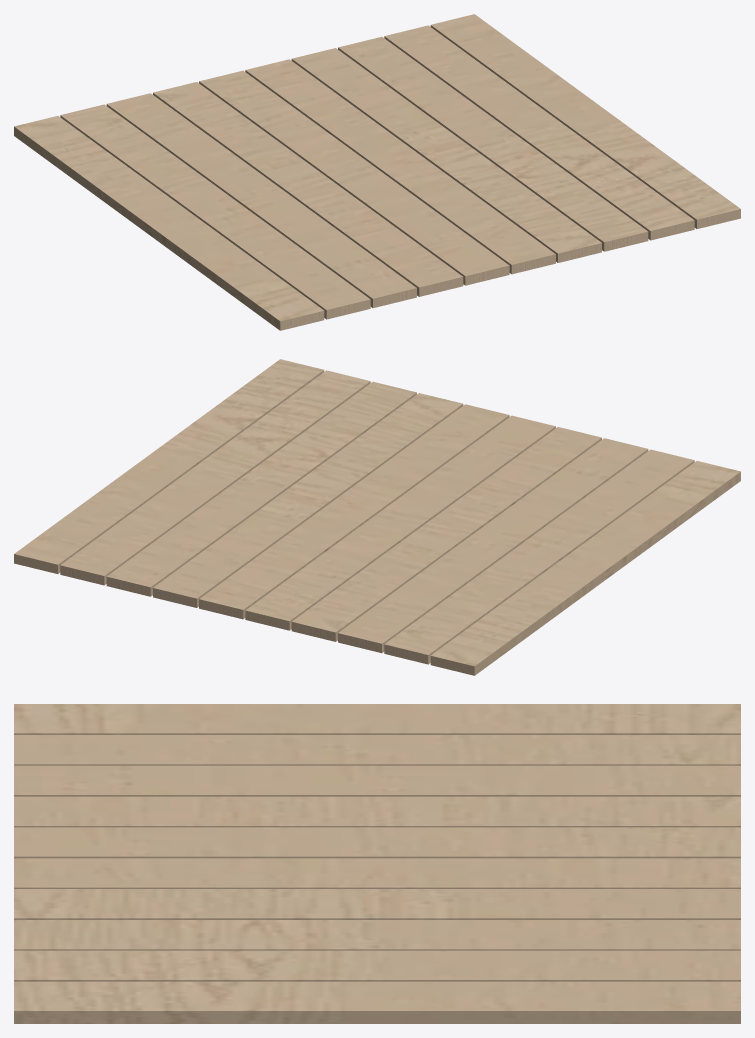
The picture shows the model from 3 angles, top to bottom: view 1: azimuth 30°, elevation 25°; view 2: azimuth 150°, elevation 25°; view 3: azimuth 270°, elevation 25°; orthographic projection. The views are drawn at different scales.
Parts seen in each view (by area): view 1: WT_floor_kit; view 2: WT_floor_kit; view 3: WT_floor_kit.
Boxes of the visible parts, box(x1,y1,x2,y2) form: WT_floor_kit: box(14, 14, 740, 330); WT_floor_kit: box(14, 359, 740, 675); WT_floor_kit: box(14, 704, 740, 1023).
Size of the model in its own units: 1.55 by 0.0305 by 1.55.
1 material, 1 textured.
